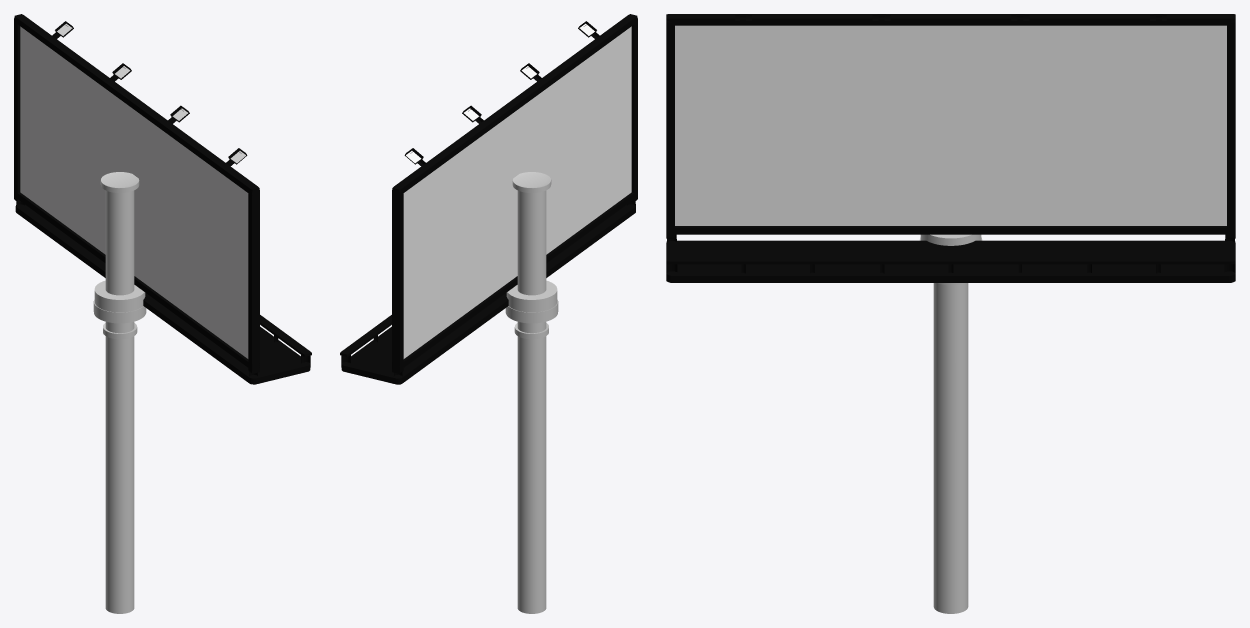
Rendered from billboard1.glb.
3 renders of one model, left to right at view 1: azimuth 30°, elevation 25°; view 2: azimuth 150°, elevation 25°; view 3: azimuth 270°, elevation 25°, orthographic. The views are drawn at different scales.
Visible parts, largest first — view 1: Cube.005, Cube.001, Cylinder, Cube.009; view 2: Cube.005, Cube.001, Cylinder, Cube.009; view 3: Cube.005, Cube.001, Cylinder.
Boxes of the visible parts, <box> form: Cube.005: <box>20,26,248,358</box>; Cube.001: <box>14,14,311,384</box>; Cylinder: <box>93,172,146,613</box>; Cube.009: <box>57,23,245,163</box>; Cube.005: <box>403,26,631,358</box>; Cube.001: <box>340,14,637,384</box>; Cylinder: <box>505,172,558,613</box>; Cube.009: <box>406,23,594,163</box>; Cube.005: <box>675,25,1226,225</box>; Cube.001: <box>666,14,1235,282</box>; Cylinder: <box>919,234,982,613</box>.
Size of the model in its own units: 7.67 by 39.04 by 32.86.
4 materials, 4 textured.
